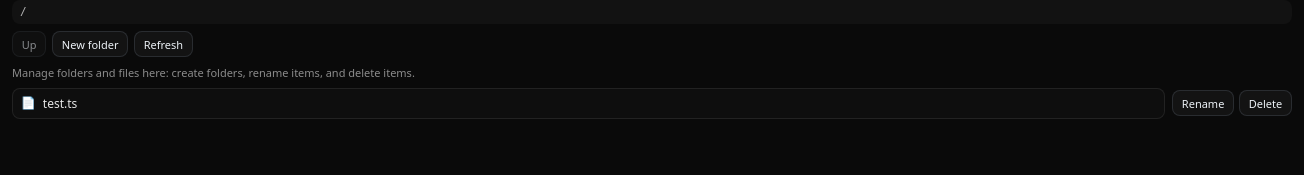
WorkspaceFilePanel - Error Clearing on Success › should clear error when deleteEntry succeeds after previous error
Expected: the text "test.ts" is shown, [43,95,77,112]
Click the button "Delete". click: (1266, 103)
box: [1239,90,1292,116]
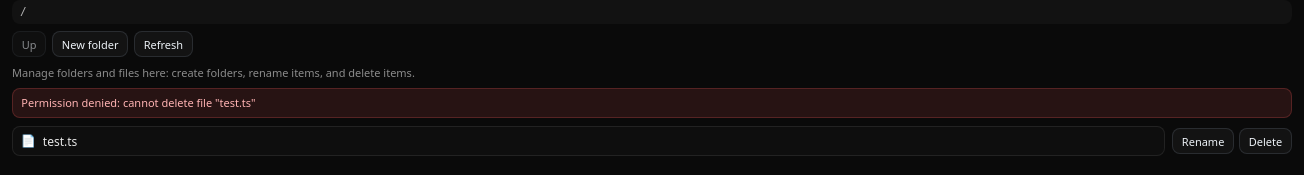
Now the text "Permission denied: cannot delete file \"test.ts\"" is shown, box [12,88,1292,118]
Click the button "Delete". click: (1266, 141)
box: [1239,128,1292,154]
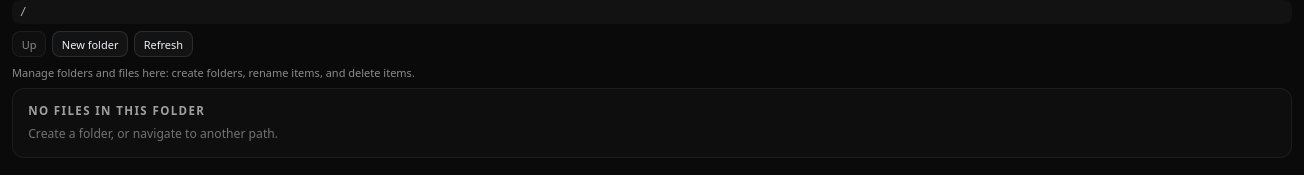
Now the text "Permission denied" is gone
